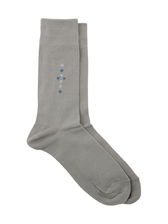sock: (29, 22, 147, 206)
